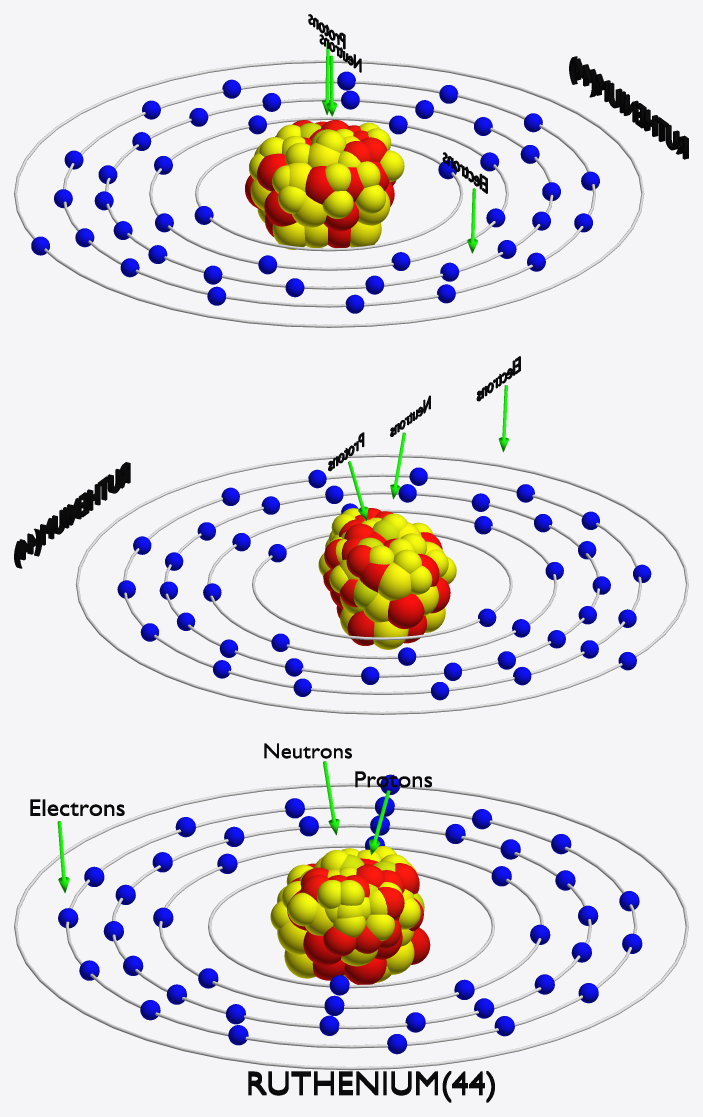
File: Ruthenium Atomic Model.gltf
The picture shows the model from 3 angles, top to bottom: view 1: azimuth 30°, elevation 25°; view 2: azimuth 150°, elevation 25°; view 3: azimuth 270°, elevation 25°; orthographic projection. The views are drawn at different scales.
Visible parts, largest first — view 1: Sphere.012, Torus.004, Torus.003, Torus.002, Text.003, Torus.001, Torus, Text; view 2: Sphere.012, Torus.004, Torus.003, Torus.002, Text.003, Torus.001, Torus; view 3: Sphere.012, Torus.004, Torus.003, Torus.002, Text.003, Torus.001, Torus, Text, Sphere.009, Sphere.004, Text.001, Sphere.007 (+1 smaller).
Boxes of the visible parts, x1=… form: Sphere.012: x1=245, y1=120, x2=404, y2=249; Torus.004: x1=14, y1=60, x2=644, y2=327; Torus.003: x1=63, y1=80, x2=595, y2=307; Torus.002: x1=105, y1=98, x2=553, y2=289; Text.003: x1=569, y1=56, x2=688, y2=159; Torus.001: x1=149, y1=117, x2=508, y2=270; Torus: x1=195, y1=143, x2=463, y2=251; Text: x1=442, y1=152, x2=487, y2=193; Sphere.012: x1=318, y1=508, x2=456, y2=649; Torus.004: x1=75, y1=454, x2=688, y2=714; Torus.003: x1=123, y1=473, x2=641, y2=694; Torus.002: x1=164, y1=491, x2=599, y2=677; Text.003: x1=14, y1=462, x2=130, y2=568; Torus.001: x1=207, y1=509, x2=557, y2=659; Torus: x1=252, y1=533, x2=512, y2=640; Sphere.012: x1=270, y1=846, x2=430, y2=984; Torus.004: x1=14, y1=783, x2=688, y2=1070; Torus.003: x1=65, y1=805, x2=637, y2=1048; Torus.002: x1=112, y1=824, x2=591, y2=1029; Text.003: x1=248, y1=1071, x2=494, y2=1102; Torus.001: x1=159, y1=844, x2=543, y2=1008; Torus: x1=208, y1=871, x2=494, y2=988; Text: x1=30, y1=799, x2=124, y2=815; Sphere.009: x1=323, y1=926, x2=356, y2=956; Sphere.004: x1=317, y1=880, x2=340, y2=908; Text.001: x1=264, y1=743, x2=351, y2=758; Sphere.007: x1=340, y1=880, x2=364, y2=905.
Size of the model in its own units: 14.96 by 5.19 by 13.83.
